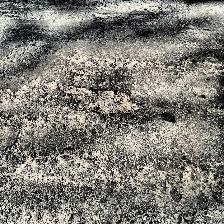pothole: (61, 85, 139, 117)
